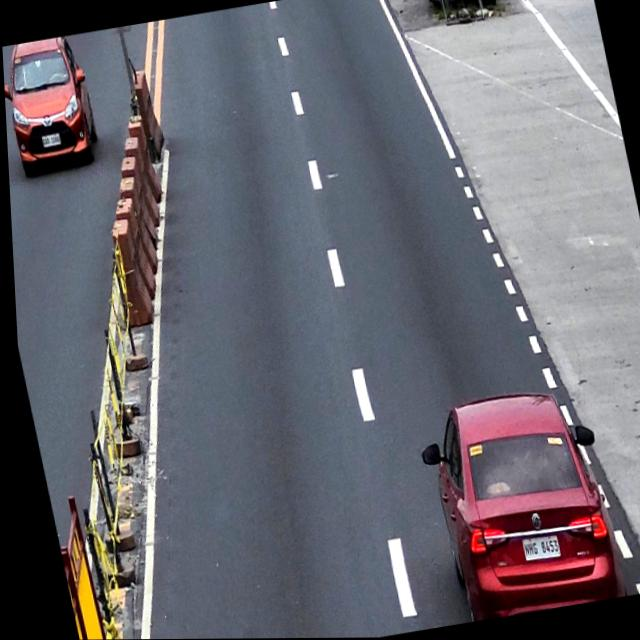Car: (406, 382, 623, 625)
License-Plate: (515, 534, 556, 564)
